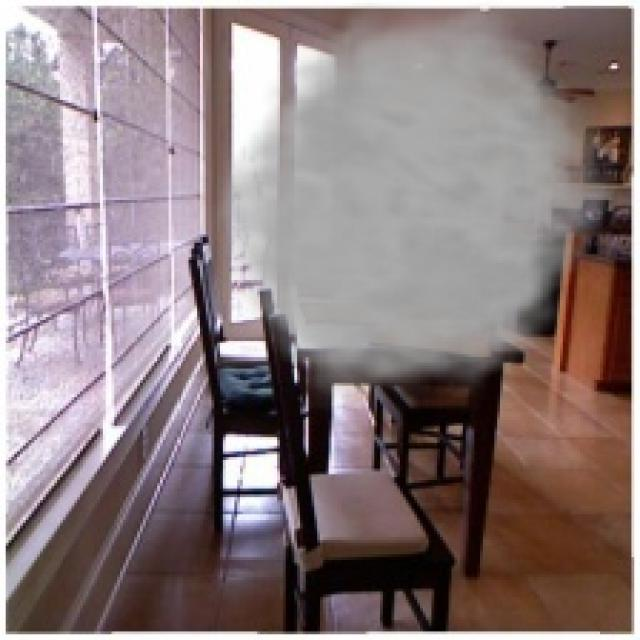smoke: (203, 3, 628, 414)
